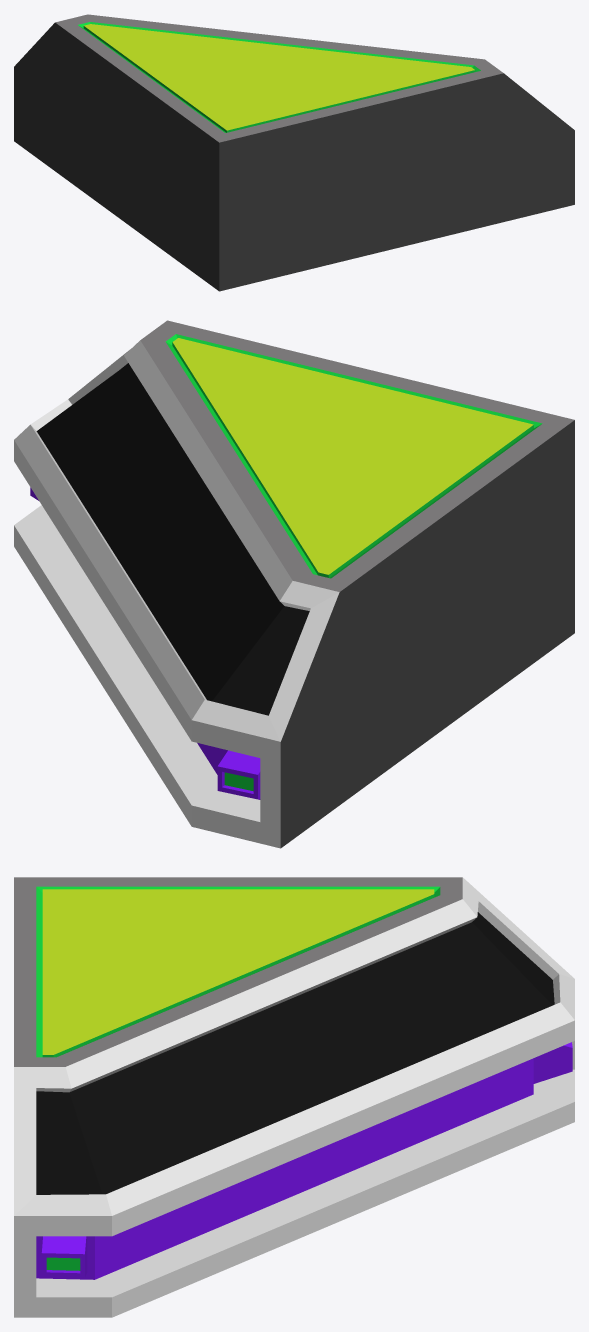
Rendered from PlatformBorder00_2.5HardCorner.fbx.
3 views of the same model, one above another, from view 1: azimuth 30°, elevation 25°; view 2: azimuth 150°, elevation 25°; view 3: azimuth 270°, elevation 25° (orthographic). The views are drawn at different scales.
Parts seen in each view (by area): view 1: PlatformBorder00_2.5HardCorner; view 2: PlatformBorder00_2.5HardCorner; view 3: PlatformBorder00_2.5HardCorner.
Part boxes in pixels (left/top/right/bottom): PlatformBorder00_2.5HardCorner: left=14, top=14, right=574, bottom=291; PlatformBorder00_2.5HardCorner: left=14, top=320, right=574, bottom=848; PlatformBorder00_2.5HardCorner: left=14, top=877, right=574, bottom=1317.
Size of the model in its own units: 250 by 100 by 250.
